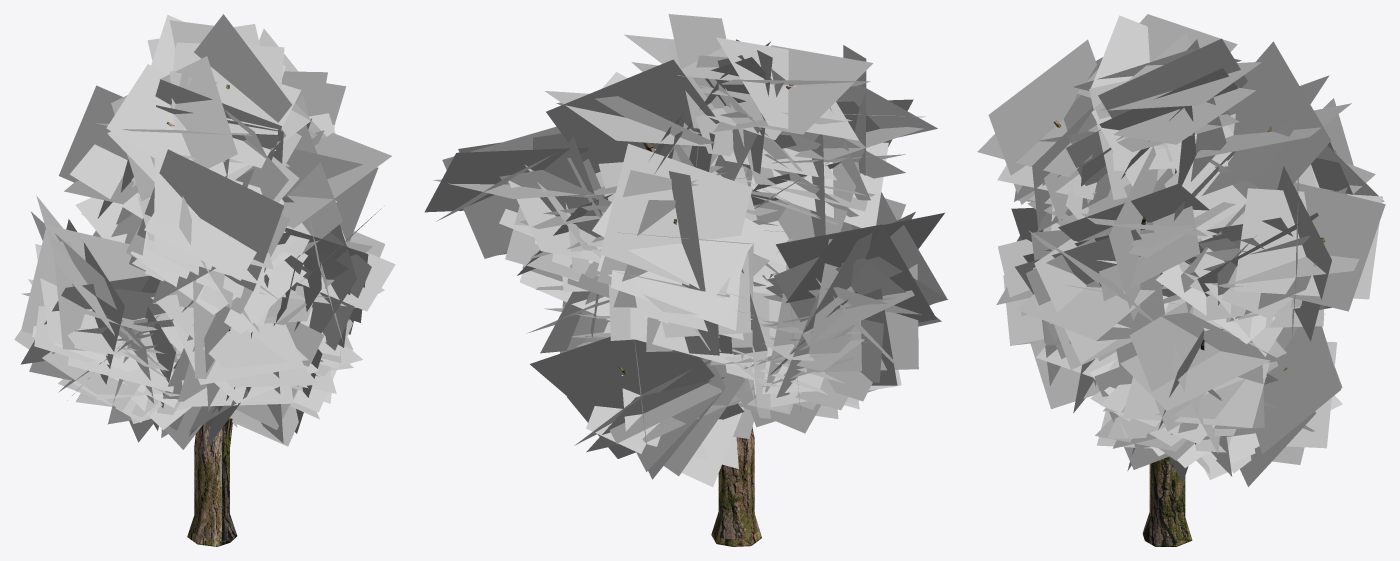
File: tree.gltf
The picture shows the model from 3 angles, left to right: view 1: azimuth 30°, elevation 25°; view 2: azimuth 150°, elevation 25°; view 3: azimuth 270°, elevation 25°; orthographic projection. The views are drawn at different scales.
Visible parts, largest first — view 1: Tree.022; view 2: Tree.022; view 3: Tree.022.
Part boxes in pixels (x1,y1,x2,y2): Tree.022: (14, 14, 395, 546); Tree.022: (424, 14, 947, 546); Tree.022: (977, 14, 1385, 546).
Size of the model in its own units: 1.66 by 2 by 1.43.
